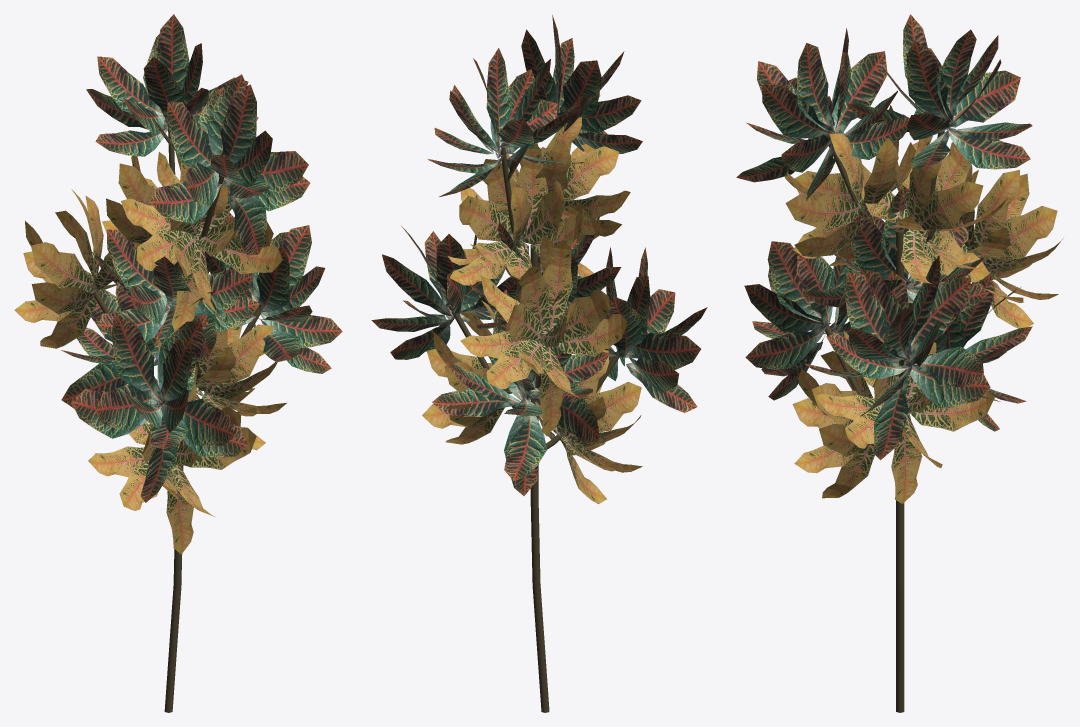
The model's file is tree3.dae.
3 views of the same model, side by side, from view 1: azimuth 30°, elevation 25°; view 2: azimuth 150°, elevation 25°; view 3: azimuth 270°, elevation 25° (orthographic). The views are drawn at different scales.
Parts seen in each view (by area): view 1: Croton_redleaf (×44), Croton_b (×26), group_5; view 2: Croton_redleaf (×32), Croton_b (×30), group_5; view 3: Croton_redleaf (×42), Croton_b (×28), group_5.
Boxes of the visible parts, left/top/right/bottom form: Croton_redleaf (×44): left=61, top=14, right=342, bottom=502; Croton_b (×26): left=14, top=163, right=286, bottom=554; group_5: left=164, top=261, right=183, bottom=712; Croton_redleaf (×32): left=371, top=29, right=700, bottom=495; Croton_b (×30): left=426, top=117, right=642, bottom=503; group_5: left=530, top=244, right=549, bottom=712; Croton_redleaf (×42): left=736, top=14, right=1032, bottom=459; Croton_b (×28): left=785, top=133, right=1062, bottom=503; group_5: left=896, top=229, right=904, bottom=712.
Bounding box in the file's own units: 71.17 × 71.04 × 167.
4 materials, 2 textured.
